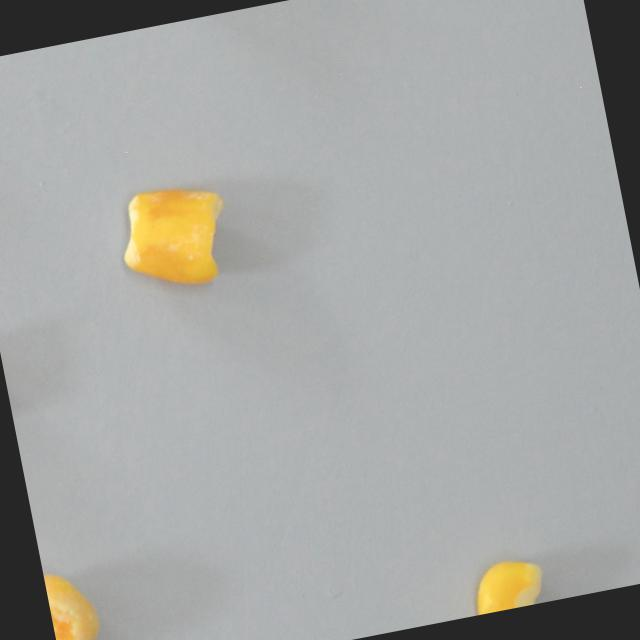no_canjicado: (464, 552, 552, 616)
pelicula: (109, 175, 239, 299), (43, 563, 105, 640)
